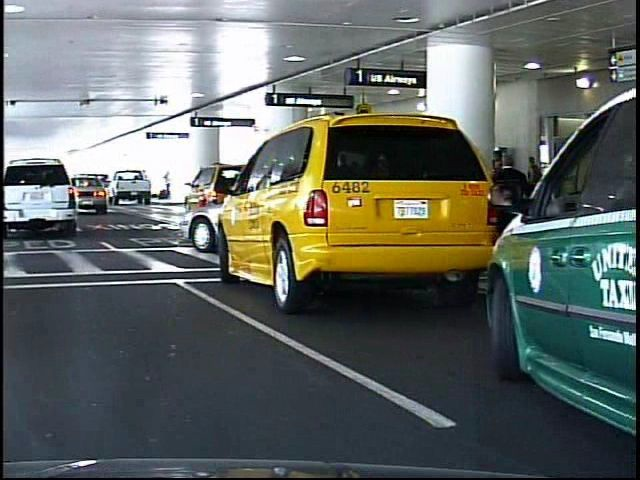person: (486, 149, 527, 288), (160, 169, 168, 199)
